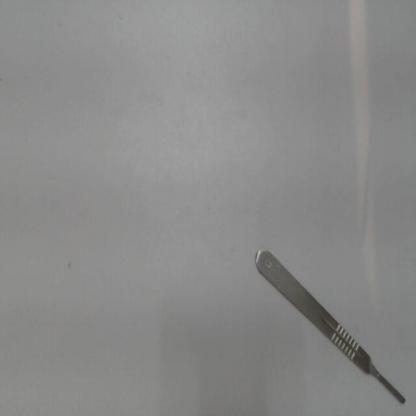No.4 BP Handle: (246, 227, 414, 412)
